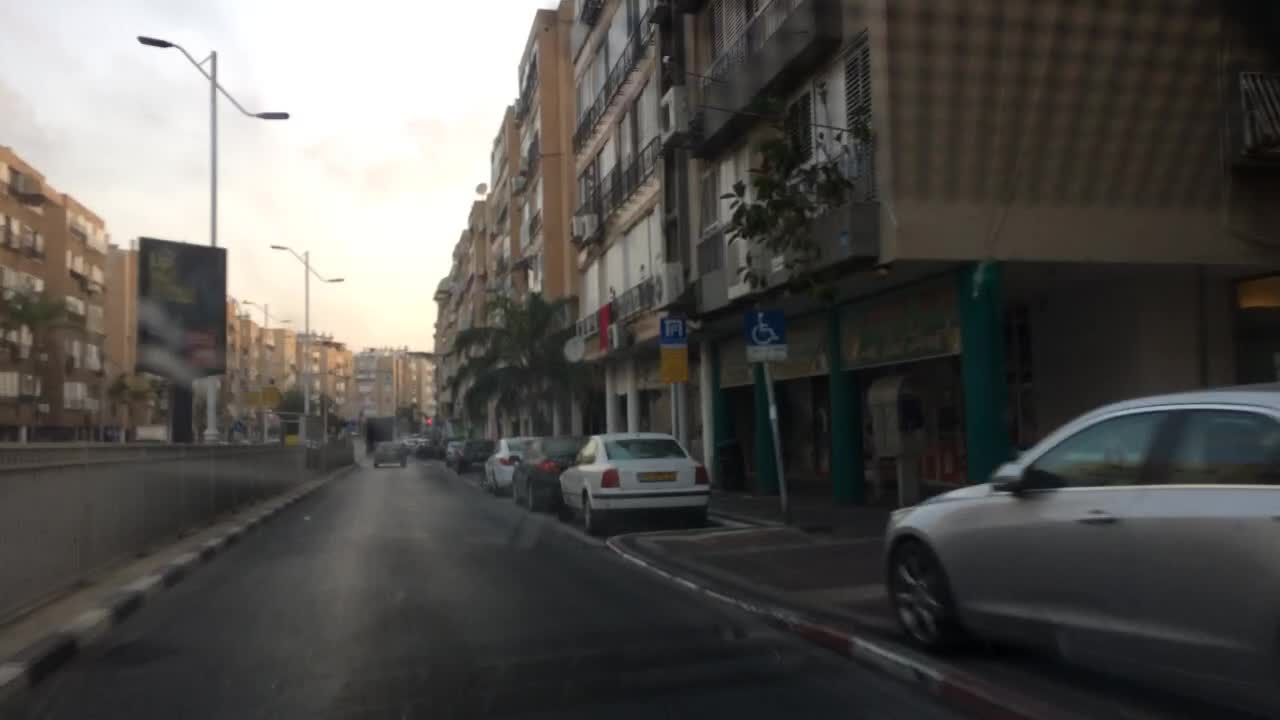car: (881, 381, 1279, 719), (555, 428, 712, 530), (508, 430, 592, 511), (482, 430, 545, 498), (452, 435, 494, 476), (369, 439, 406, 471), (413, 437, 445, 461), (438, 434, 465, 461), (398, 428, 415, 449)
traffic sign: (744, 304, 789, 358), (660, 314, 688, 381)
truck: (361, 415, 396, 455)
